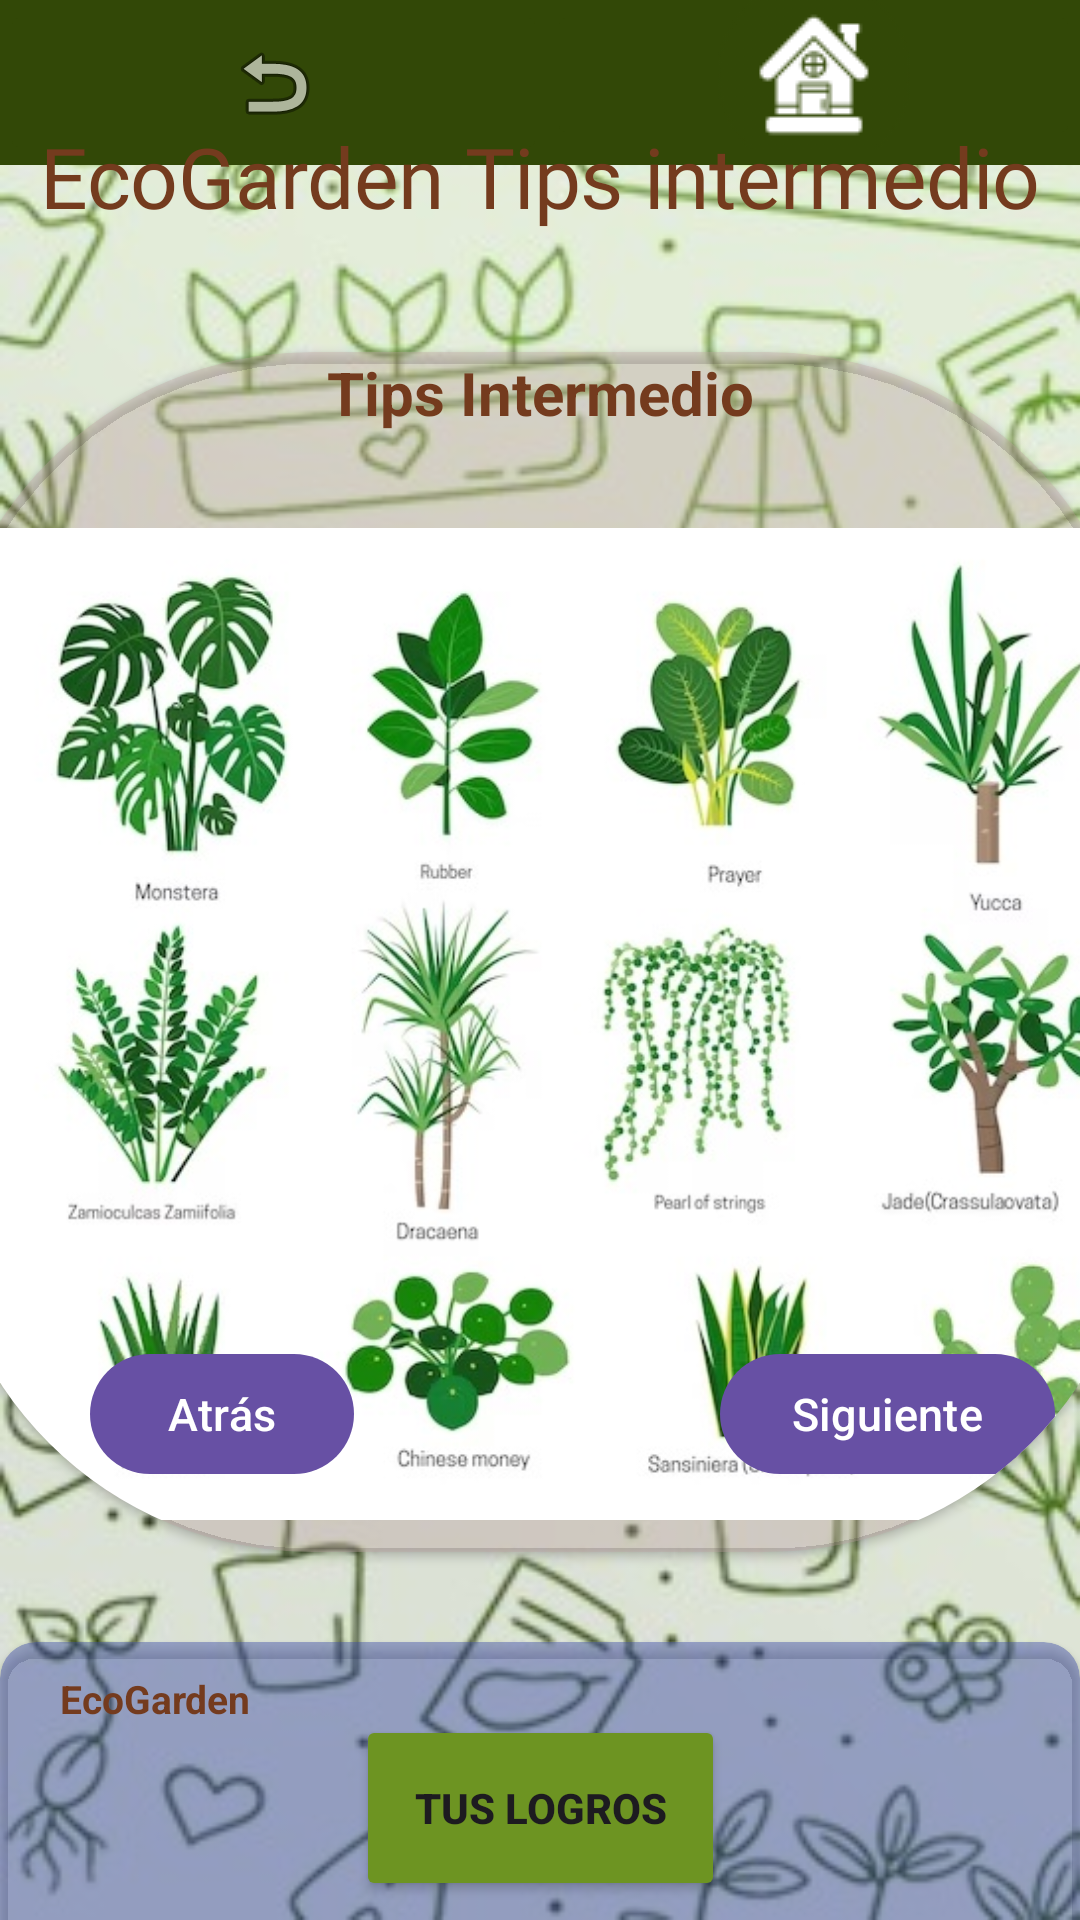

Icon bounding boxes for this 1080px x 1920px phone screenshot, format bbox=[x1, y1, x2, y2]:
Home: bbox=[759, 15, 869, 135]
